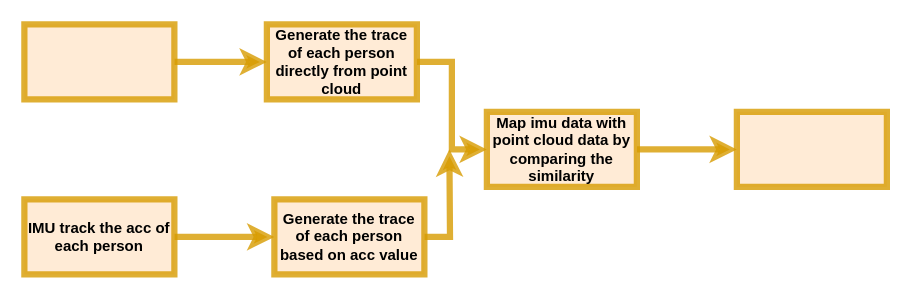
This 911x299 diagram has some shape labels left out. Here are the shapes that lost their labels. From the top down, the box of each, then its label:
(21, 21, 177, 102): MMWAVE track each person's speed and position
(733, 108, 889, 189): Tracking contact Module
